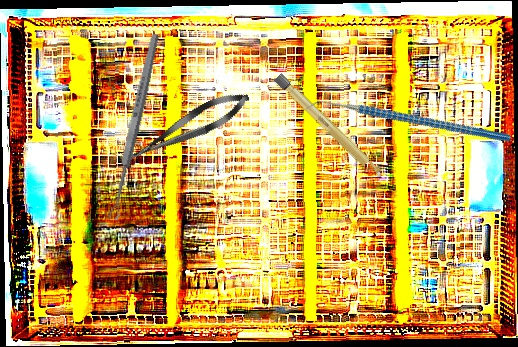Chopper: (300, 38, 513, 208)
Micro Scissor: (118, 83, 255, 173)
Scalpel Handle: (273, 72, 385, 182)
Surgical Spoon: (106, 33, 162, 221)
